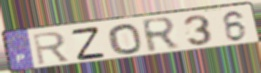3: (182, 14, 213, 47)
6: (222, 10, 249, 42)
O: (106, 23, 145, 55)
R: (139, 16, 182, 55), (31, 30, 72, 67)
Z: (69, 25, 107, 62)
